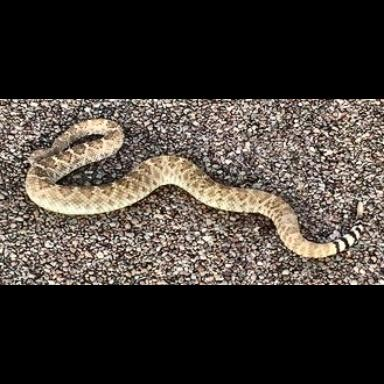snake: (28, 120, 354, 260)
